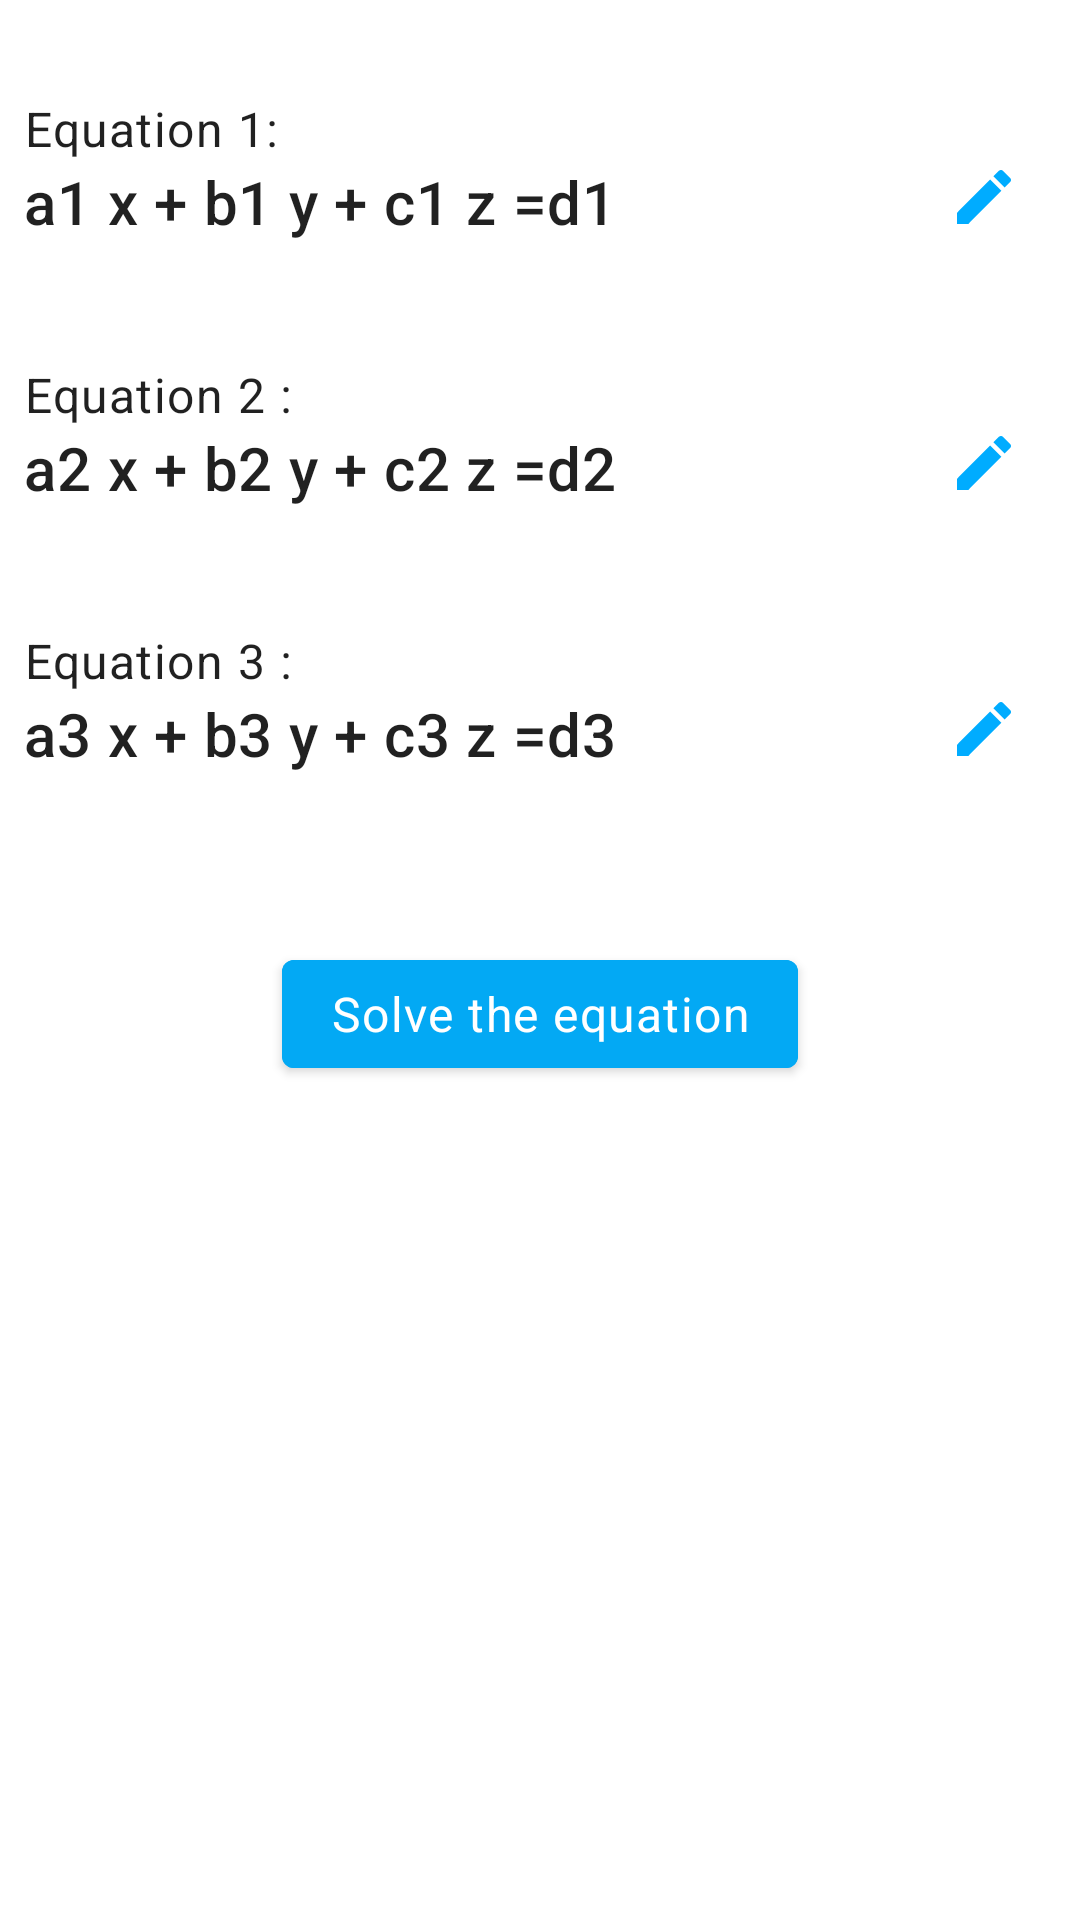

Screen size 1080×1920. Icon name, then its center in pixels as (x,y):
edit: (984,197), (984,463), (984,729)
